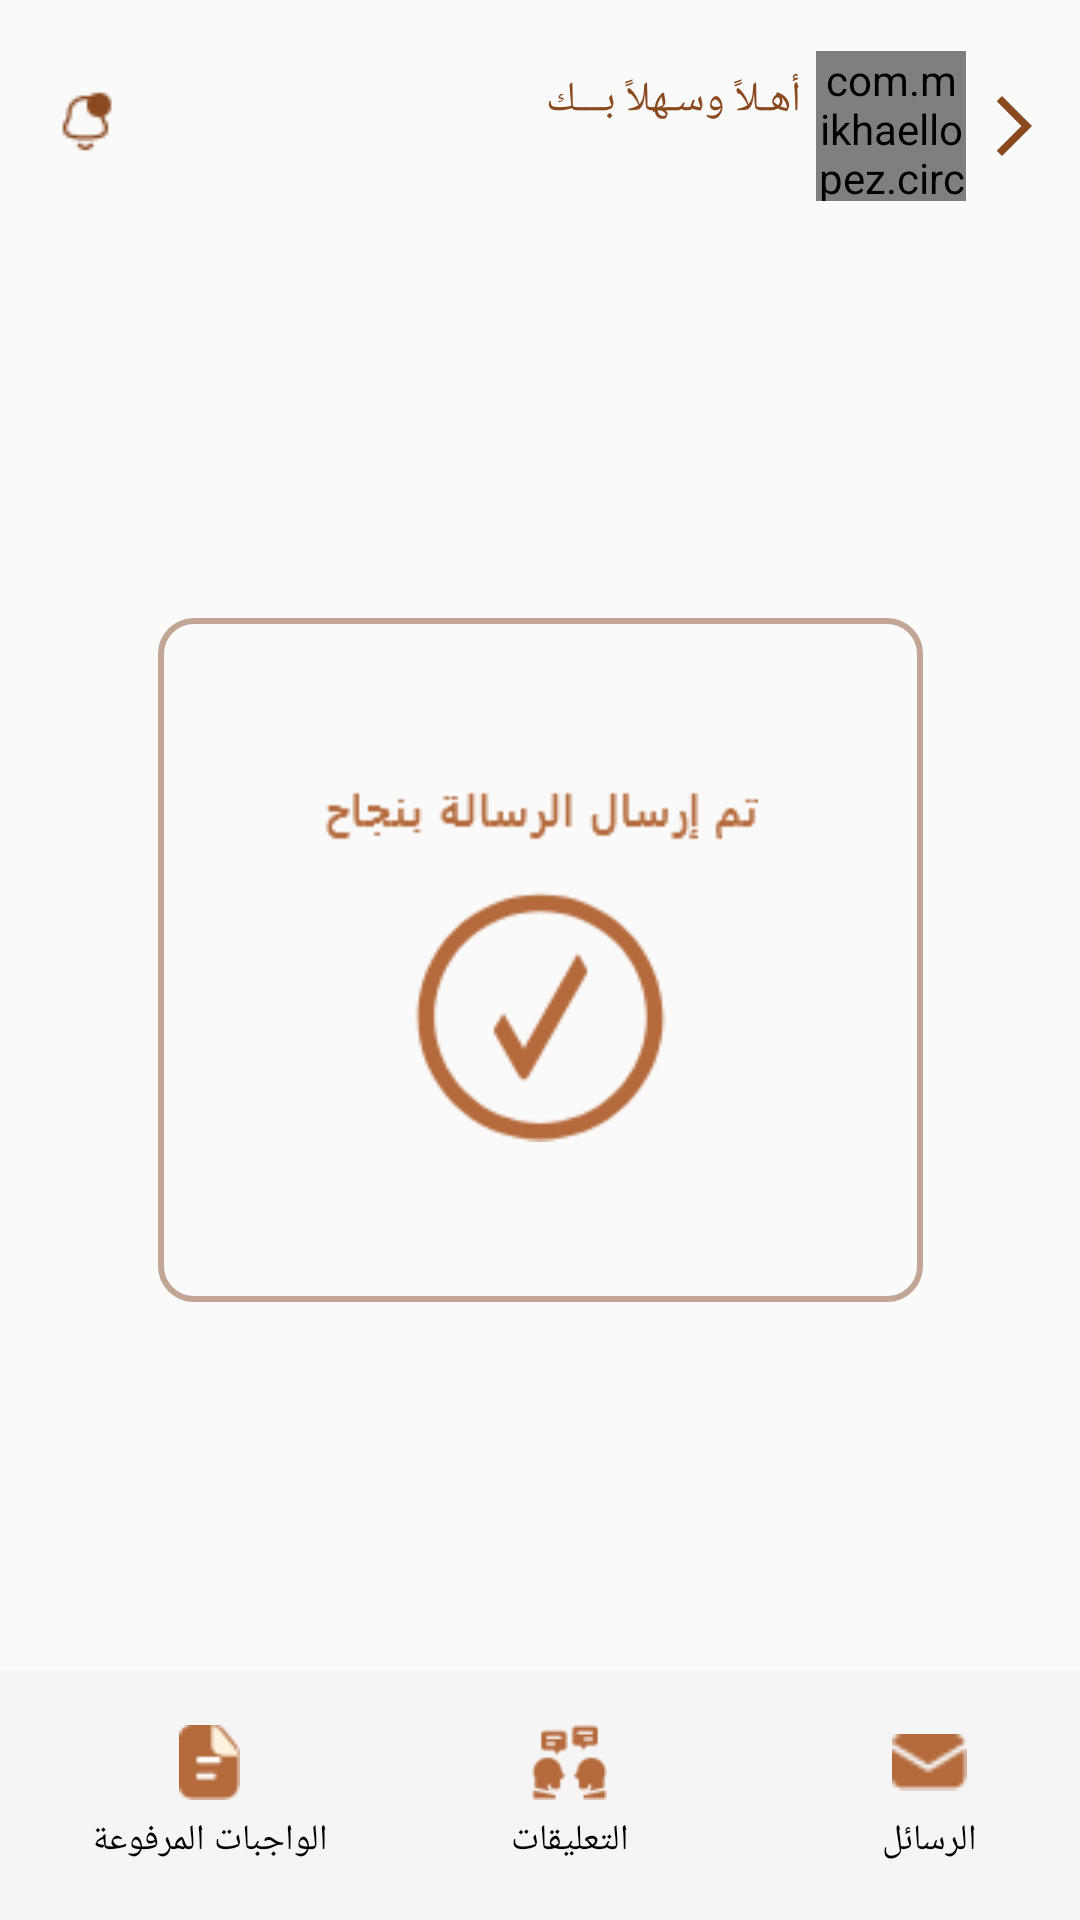

Named icons in this screenshot (1080 x 1920) and their centers, [x,y]:
arrow forward: [1014,126]
notifaction: [87,121]
